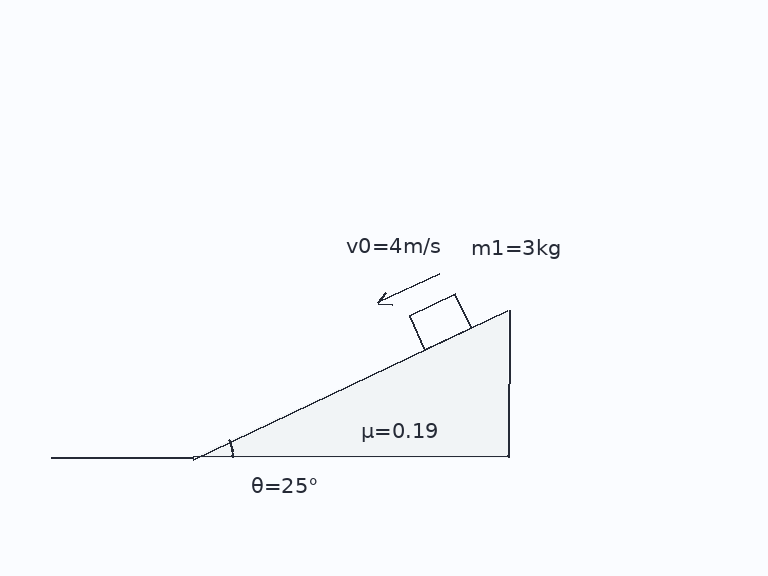block: (407, 292, 473, 351)
ramp: (191, 308, 509, 459)
